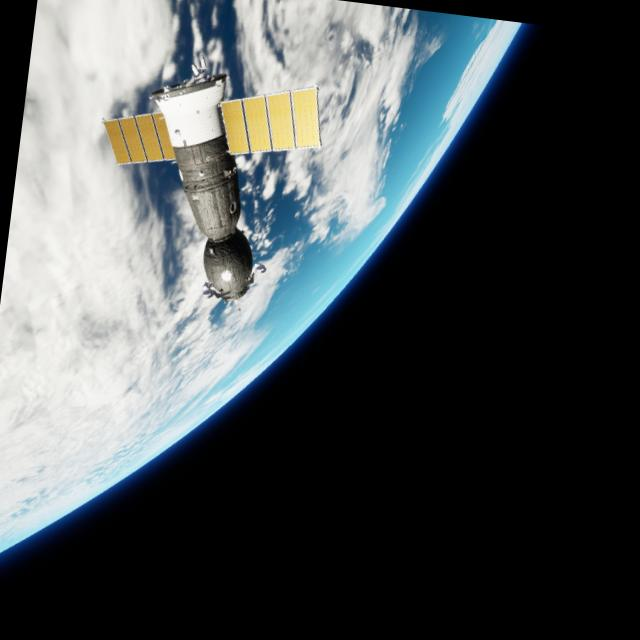Satellites revolving around earth: (0, 0, 524, 629), (80, 42, 332, 316)
